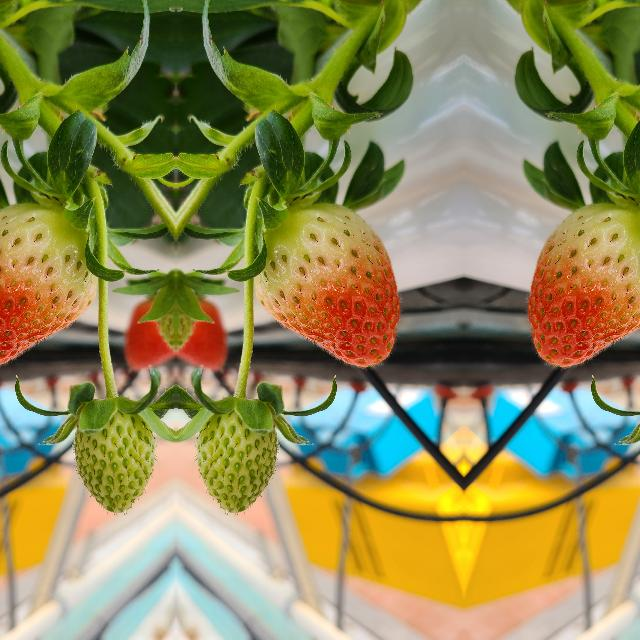Health_25: (194, 402, 280, 516), (70, 402, 156, 516)
Health_50: (252, 202, 401, 370), (525, 202, 640, 370), (0, 202, 98, 370)
